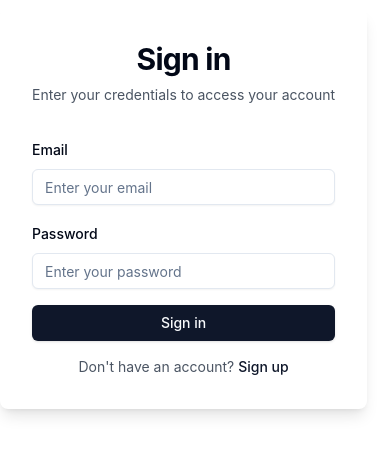
Test: LoginPage › shows error for invalid credentials
Type "test@example.com" into the field labelled "Email" at point(184, 187), box [32, 169, 335, 205]
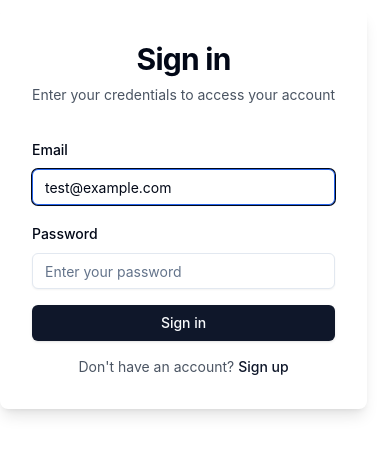
Type "wrongpassword" into the password field labelled "Password" at point(184, 271), box [32, 253, 335, 289]
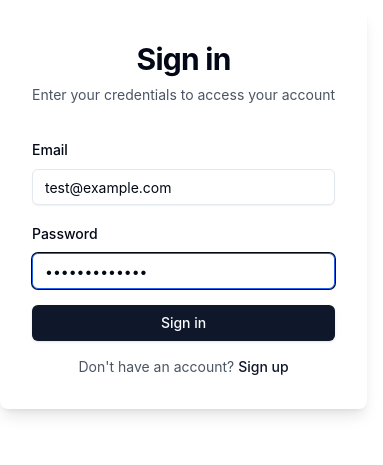
Click the button "Sign in" at point(184, 323), box [32, 305, 335, 341]
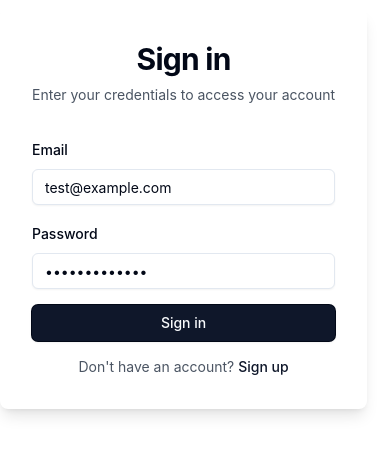
Submit the form, box [32, 137, 335, 377]
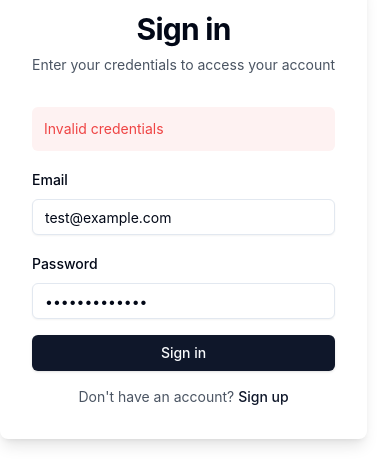
Check: the message "Invalid credentials" is shown, box [32, 107, 335, 151]
Check: the message reads "Invalid credentials", box [44, 120, 164, 137]
